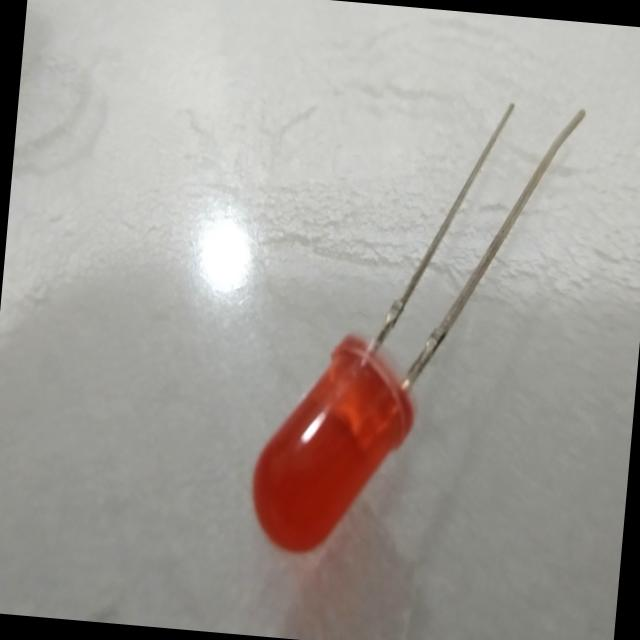red_led: (235, 319, 444, 584)
